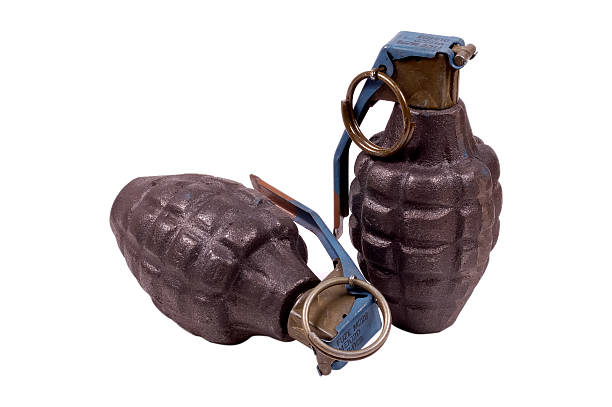e1: (331, 30, 503, 340)
